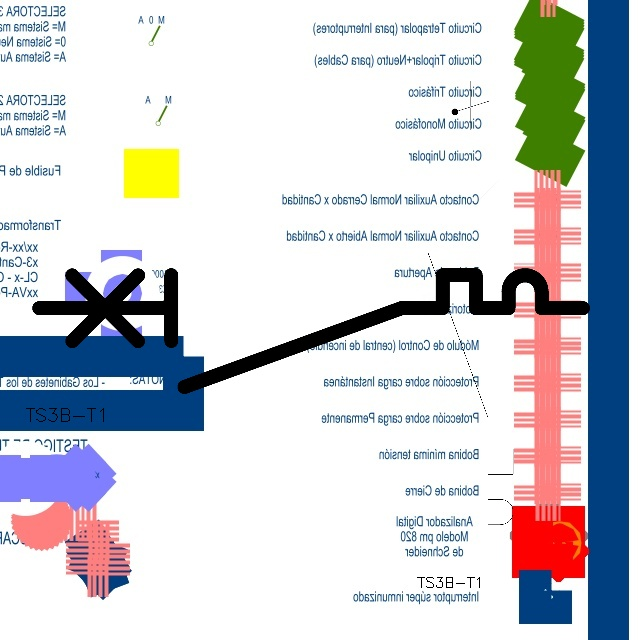interruptor_termomagnetico: (25, 261, 597, 401), (417, 130, 524, 567)
